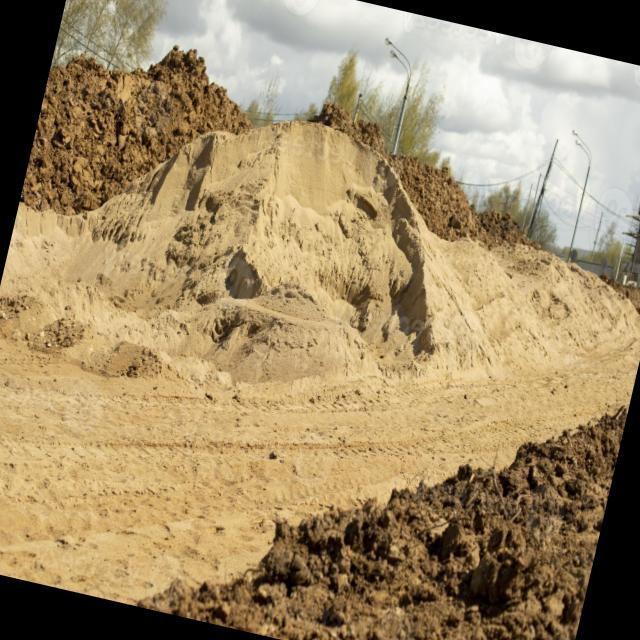red-sand: (135, 408, 627, 640), (19, 46, 252, 214), (387, 155, 536, 247), (309, 102, 386, 157)
white-sand: (0, 122, 640, 602)
